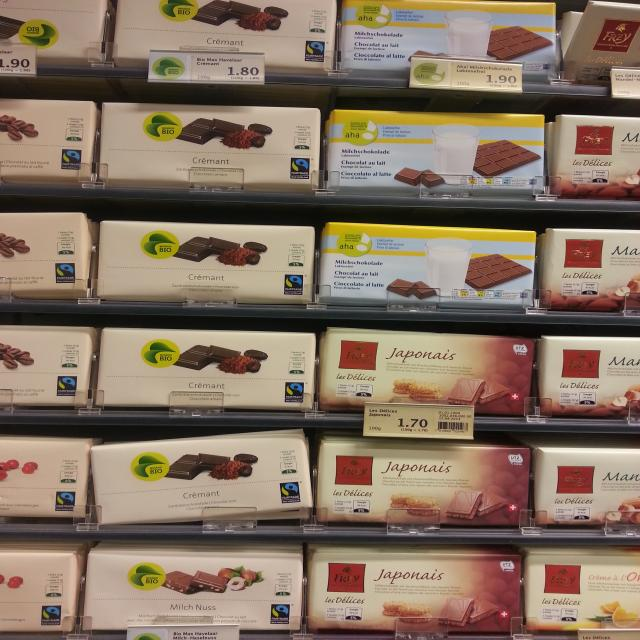chocolate: (92, 428, 313, 525), (313, 326, 531, 418), (101, 100, 326, 186), (74, 544, 304, 628), (310, 438, 530, 522), (310, 544, 522, 630), (321, 223, 535, 306), (104, 329, 318, 412), (327, 108, 550, 187), (92, 220, 314, 299), (339, 0, 556, 69), (112, 0, 340, 63), (526, 550, 640, 638), (535, 444, 640, 528), (0, 213, 104, 297), (0, 96, 106, 174), (544, 336, 640, 422), (537, 229, 640, 306), (551, 114, 640, 202), (0, 320, 95, 402), (0, 542, 82, 632), (551, 0, 640, 80), (0, 0, 112, 62), (0, 443, 92, 517)
